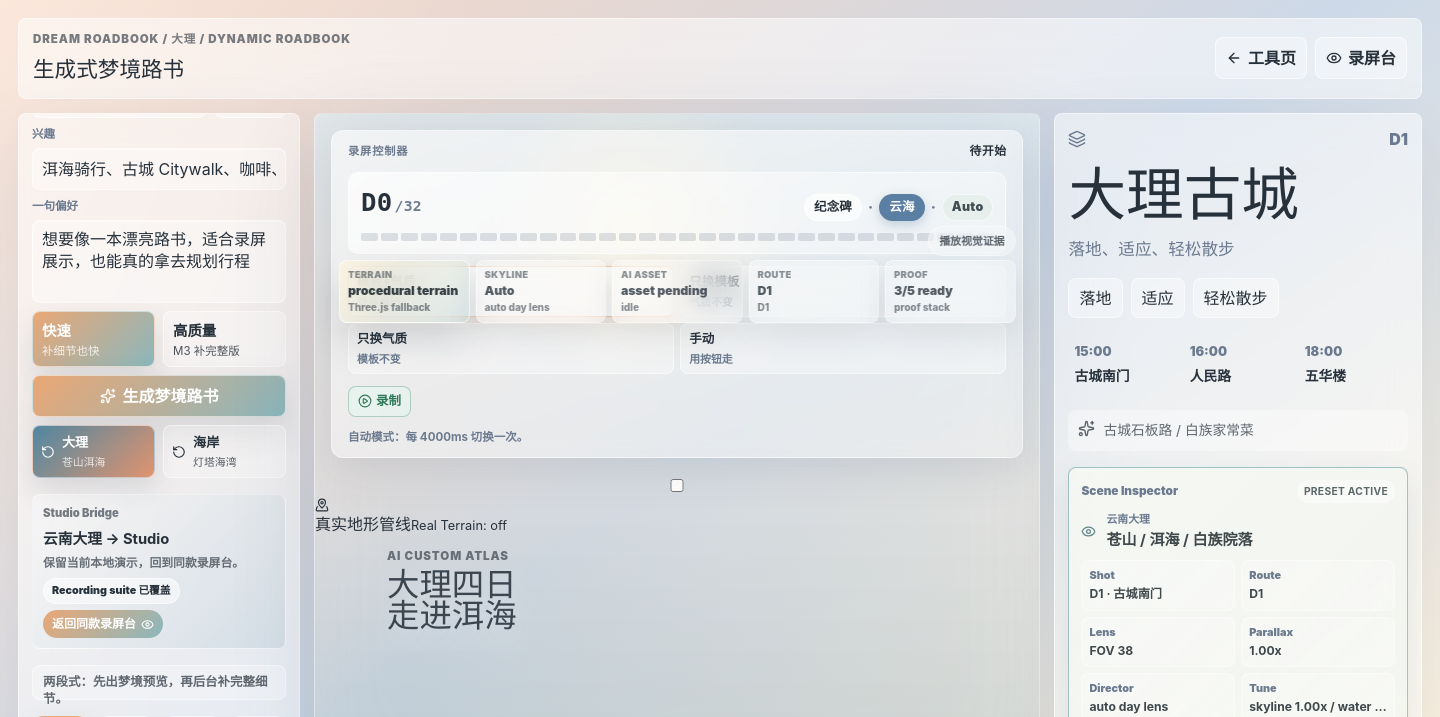
it: DreamRoadbook a11y polish › switches the local demo roadbook to the coastal cinematic preset
(page scrolled)
Click the button "海岸 灯塔海湾" at (224, 452), box [163,425,286,478]
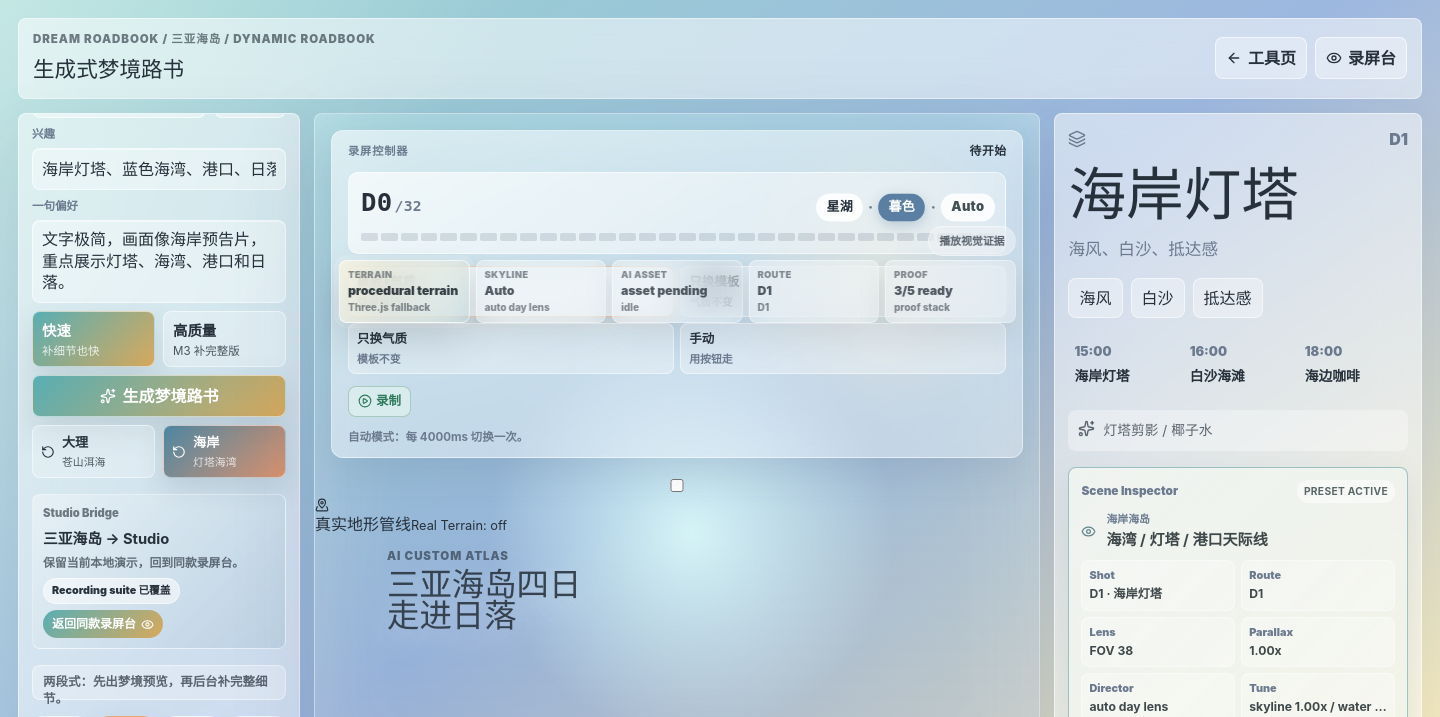
Expected: the text "海岸海岛" is shown, [1106,512,1150,526]
Expected: the text "海湾 / 灯塔 / 港口天际线" is shown, [1106,530,1268,549]
